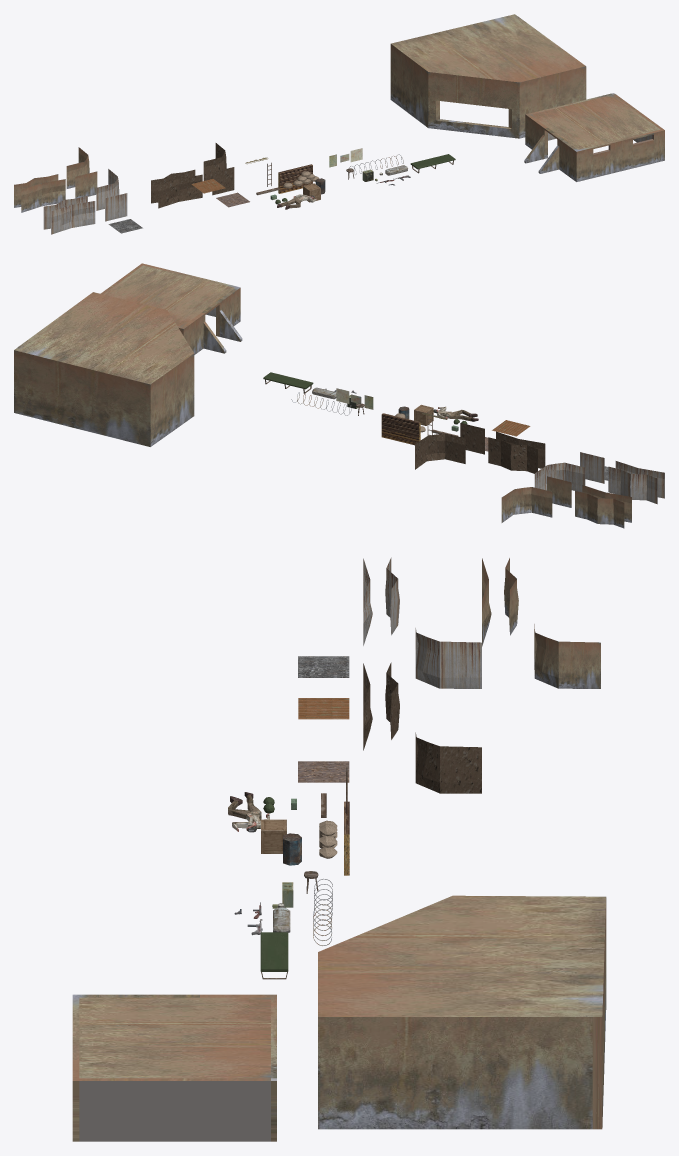
Rendered from Trench 2.fbx.
The picture shows the model from 3 angles, top to bottom: view 1: azimuth 30°, elevation 25°; view 2: azimuth 150°, elevation 25°; view 3: azimuth 270°, elevation 25°; orthographic projection. The views are drawn at different scales.
Parts seen in each view (by area): view 1: Bunker2, Bunker1, TrenchWall2.001, TrenchWall2.002, TrenchWall2, Planks, TrenchWall1.001, TrenchWallCurved.002, TrenchWall1.002, TrenchWallCurved.001, TrenchWallCurved, TrenchWall1 (+4 smaller); view 2: Bunker2, Bunker1, TrenchWallCurved.002, TrenchWallCurved, TrenchWall3.002, TrenchWall3, TrenchWall3.001, TrenchWallCurved.001, Planks, TrenchWall1.002, TrenchWall1, TrenchWall1.001 (+4 smaller); view 3: Bunker2, Bunker1, TrenchWallCurved, TrenchWallCurved.002, TrenchWallCurved.001, Cot, TrenchGround.001, MetalRoof, TrenchGround, HeDead, Crate.
Part boxes in pixels (x1,y1,x2,y2): Bunker2: [390, 14, 586, 138]; Bunker1: [524, 93, 664, 181]; TrenchWall2.001: [51, 201, 95, 234]; TrenchWall2.002: [21, 179, 65, 212]; TrenchWall2: [158, 174, 202, 208]; Planks: [278, 164, 312, 193]; TrenchWall1.001: [105, 193, 127, 221]; TrenchWallCurved.002: [66, 147, 89, 188]; TrenchWall1.002: [75, 171, 97, 198]; TrenchWallCurved.001: [96, 169, 119, 210]; TrenchWallCurved: [203, 143, 226, 180]; TrenchWall1: [212, 167, 234, 195]; Bunker2: [14, 292, 194, 446]; Bunker1: [100, 263, 242, 354]; TrenchWallCurved.002: [501, 487, 552, 522]; TrenchWallCurved: [415, 433, 465, 469]; TrenchWall3.002: [575, 491, 624, 528]; TrenchWall3: [488, 437, 537, 473]; TrenchWall3.001: [608, 466, 657, 504]; TrenchWallCurved.001: [534, 462, 585, 492]; Planks: [381, 413, 420, 445]; TrenchWall1.002: [547, 476, 571, 507]; TrenchWall1: [460, 423, 484, 454]; TrenchWall1.001: [580, 452, 604, 483]; Bunker2: [318, 895, 606, 1129]; Bunker1: [72, 994, 276, 1141]; TrenchWallCurved: [415, 732, 481, 793]; TrenchWallCurved.002: [534, 624, 600, 688]; TrenchWallCurved.001: [415, 628, 481, 688]; Cot: [260, 932, 288, 979]; TrenchGround.001: [298, 656, 349, 677]; MetalRoof: [298, 698, 349, 719]; TrenchGround: [298, 761, 349, 782]; HeDead: [228, 792, 269, 832]; Crate: [261, 819, 286, 853].
Size of the model in its own units: 4892 by 512 by 2086.
31 materials, 31 textured.
